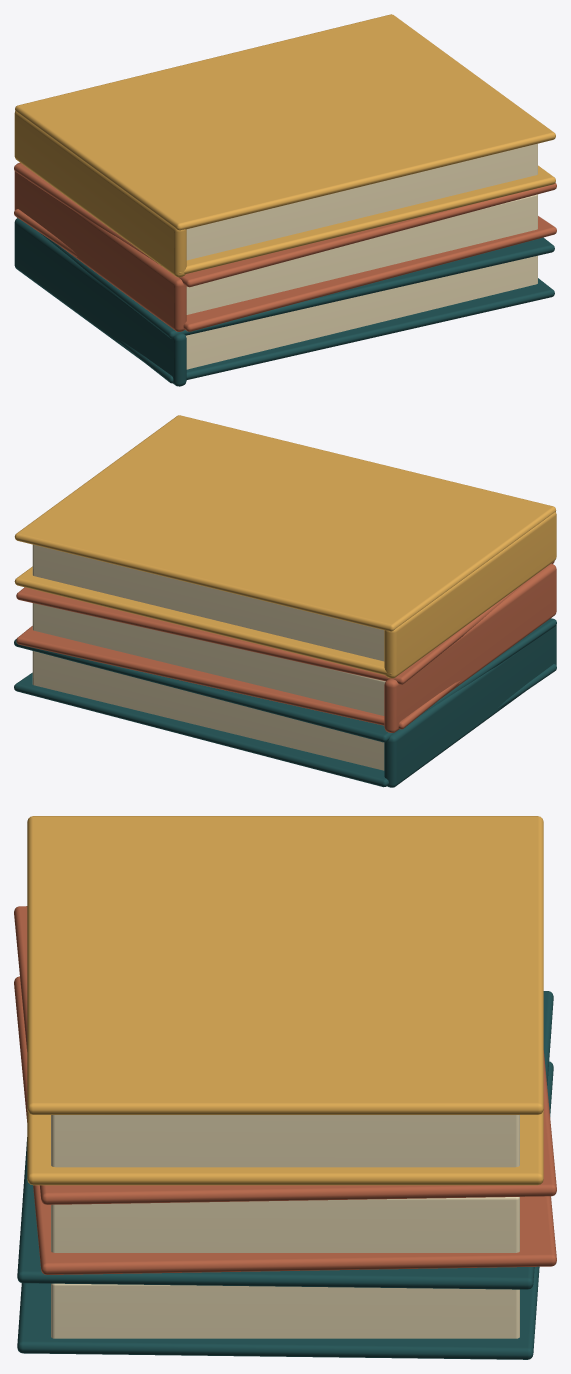
The model's file is BookStack.fbx.
3 views of the same model, one above another, from view 1: azimuth 30°, elevation 25°; view 2: azimuth 150°, elevation 25°; view 3: azimuth 270°, elevation 25° (orthographic). The views are drawn at different scales.
Parts seen in each view (by area): view 1: Surface_KKTC_Ochre, Surface_KKTC_Paper, Surface_KKTC_Terracotta, Surface_KKTC_CanvasDeep; view 2: Surface_KKTC_Ochre, Surface_KKTC_Paper, Surface_KKTC_Terracotta, Surface_KKTC_CanvasDeep; view 3: Surface_KKTC_Ochre, Surface_KKTC_Paper, Surface_KKTC_Terracotta, Surface_KKTC_CanvasDeep.
Boxes of the visible parts, <box> form: Surface_KKTC_Ochre: <box>14,14,555,277</box>; Surface_KKTC_Paper: <box>186,143,537,369</box>; Surface_KKTC_Terracotta: <box>14,162,556,331</box>; Surface_KKTC_CanvasDeep: <box>14,217,554,386</box>; Surface_KKTC_Ochre: <box>14,415,556,678</box>; Surface_KKTC_Paper: <box>32,544,385,770</box>; Surface_KKTC_Terracotta: <box>16,561,556,732</box>; Surface_KKTC_CanvasDeep: <box>14,618,556,787</box>; Surface_KKTC_Ochre: <box>27,816,543,1185</box>; Surface_KKTC_Paper: <box>51,1115,519,1338</box>; Surface_KKTC_Terracotta: <box>14,906,556,1274</box>; Surface_KKTC_CanvasDeep: <box>17,991,553,1359</box>.
Size of the model in its own units: 16.46 by 6.6 by 12.62.
